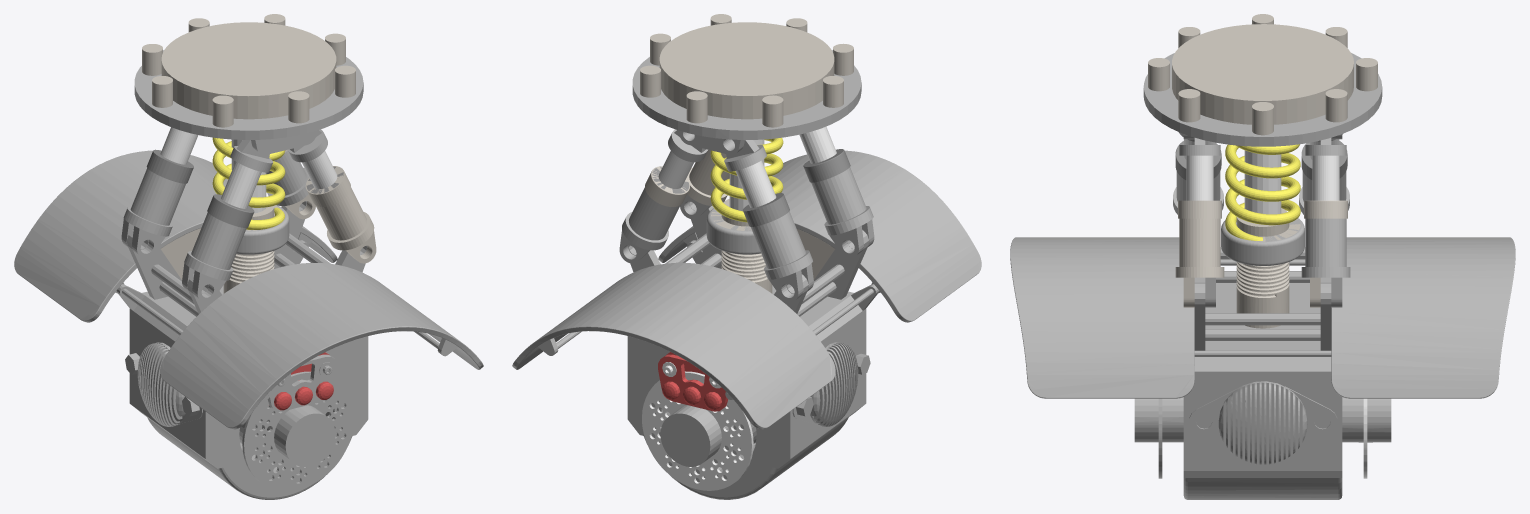
The model's file is Axl box.glb.
3 renders of one model, left to right at view 1: azimuth 30°, elevation 25°; view 2: azimuth 150°, elevation 25°; view 3: azimuth 270°, elevation 25°, orthographic. The views are drawn at different scales.
Size of the model in its own units: 0.8472 by 1.32 by 1.41.
